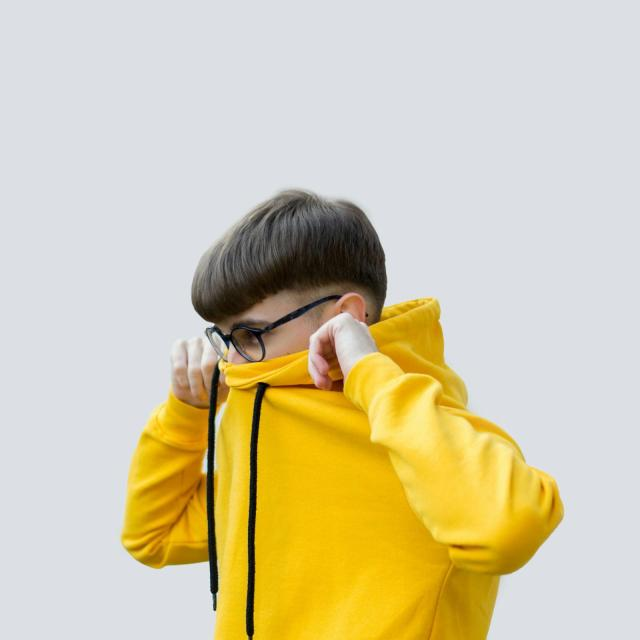8_ropa_rostro: (161, 341, 456, 511)
